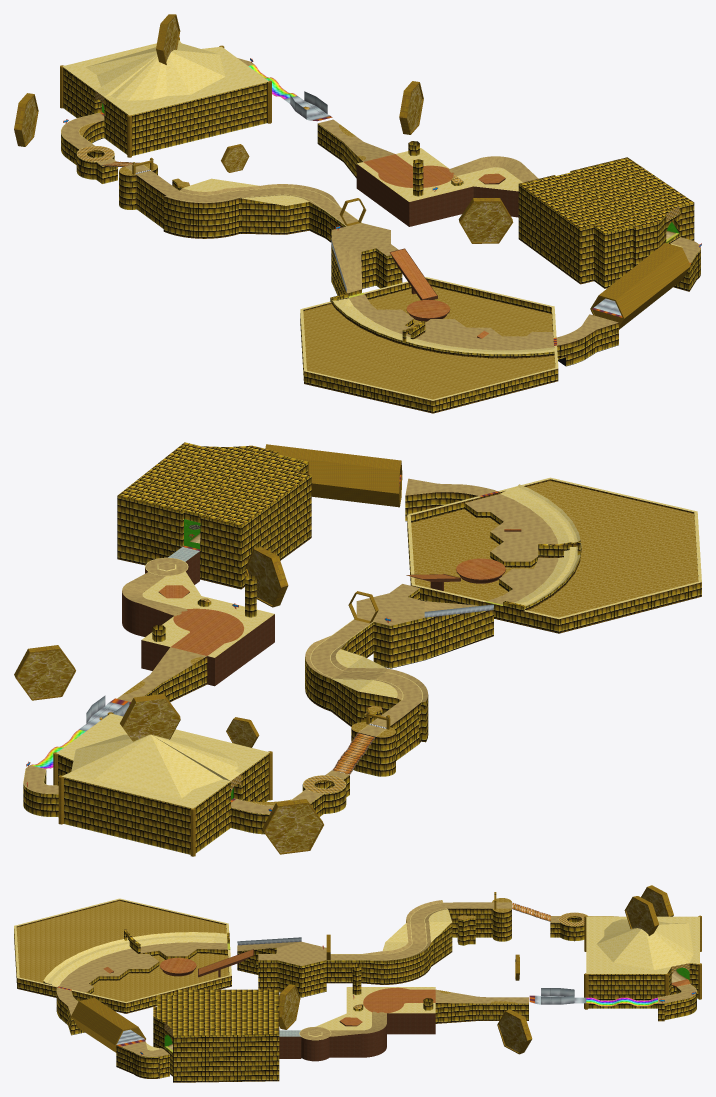
The picture shows the model from 3 angles, top to bottom: view 1: azimuth 30°, elevation 25°; view 2: azimuth 150°, elevation 25°; view 3: azimuth 270°, elevation 25°; orthographic projection. The views are drawn at different scales.
Visible parts, largest first — view 1: Honey-SKP--Wall, Honey-SKP--Honey, Honey-SKP--Sand, Honey-SKP--Road, Honey-SKP--pyramidwalls, Honey-SKP--wood, Honey-SKP--wood2, Honey-SKP--glass, Honey-SKP--sechsecke; view 2: Honey-SKP--Wall, Honey-SKP--Honey, Honey-SKP--Sand, Honey-SKP--Road, Honey-SKP--pyramidwalls, Honey-SKP--wood, Honey-SKP--wood2, Honey-SKP--glass, Honey-SKP--bridge, Honey-SKP--sechsecke; view 3: Honey-SKP--Wall, Honey-SKP--Honey, Honey-SKP--Sand, Honey-SKP--Road, Honey-SKP--pyramidwalls, Honey-SKP--wood, Honey-SKP--wood2, Honey-SKP--glass, Honey-SKP--rainbow, Honey-SKP--sechsecke.
Part boxes in pixels (left/top/right/bottom): Honey-SKP--Wall: left=61, top=67, right=700, bottom=413; Honey-SKP--Honey: left=22, top=17, right=555, bottom=399; Honey-SKP--Sand: left=61, top=40, right=682, bottom=400; Honey-SKP--Road: left=61, top=58, right=700, bottom=350; Honey-SKP--pyramidwalls: left=14, top=14, right=690, bottom=329; Honey-SKP--wood: left=356, top=164, right=518, bottom=338; Honey-SKP--wood2: left=177, top=154, right=504, bottom=338; Honey-SKP--glass: left=284, top=91, right=621, bottom=315; Honey-SKP--sechsecke: left=77, top=91, right=679, bottom=221; Honey-SKP--Wall: left=23, top=442, right=701, bottom=854; Honey-SKP--Honey: left=17, top=481, right=698, bottom=852; Honey-SKP--Sand: left=23, top=477, right=701, bottom=814; Honey-SKP--Road: left=23, top=478, right=558, bottom=813; Honey-SKP--pyramidwalls: left=14, top=444, right=402, bottom=856; Honey-SKP--wood: left=122, top=530, right=521, bottom=686; Honey-SKP--wood2: left=159, top=529, right=521, bottom=713; Honey-SKP--glass: left=79, top=604, right=493, bottom=731; Honey-SKP--bridge: left=332, top=733, right=374, bottom=774; Honey-SKP--sechsecke: left=99, top=598, right=345, bottom=793; Honey-SKP--Wall: left=14, top=899, right=698, bottom=1082; Honey-SKP--Honey: left=16, top=888, right=668, bottom=1052; Honey-SKP--Sand: left=14, top=898, right=699, bottom=1050; Honey-SKP--Road: left=56, top=900, right=696, bottom=1056; Honey-SKP--pyramidwalls: left=71, top=885, right=701, bottom=1054; Honey-SKP--wood: left=110, top=949, right=676, bottom=1061; Honey-SKP--wood2: left=103, top=915, right=690, bottom=1025; Honey-SKP--glass: left=116, top=937, right=586, bottom=1044; Honey-SKP--rainbow: left=586, top=997, right=657, bottom=1006; Honey-SKP--sechsecke: left=164, top=912, right=689, bottom=1035.
Size of what is drawn, in the model's own units: 81840 by 19933 by 137025.
Materials: 25 (25 with a texture image).
